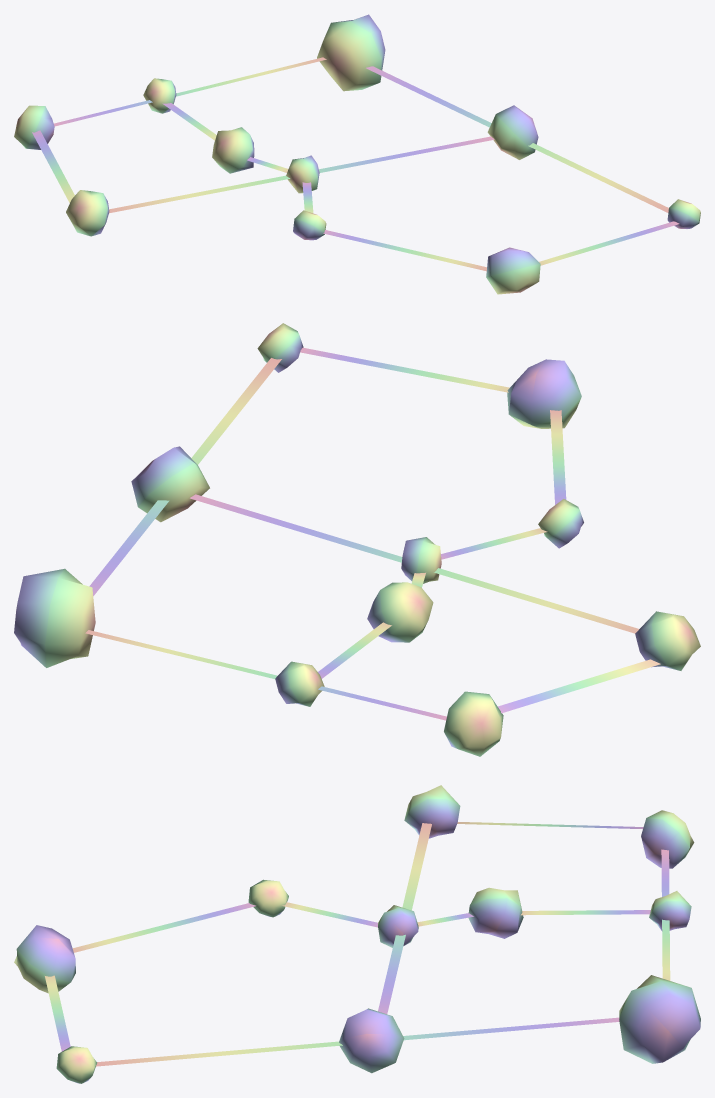
Rendered from ChomBoo.fbx.
The picture shows the model from 3 angles, top to bottom: view 1: azimuth 30°, elevation 25°; view 2: azimuth 150°, elevation 25°; view 3: azimuth 270°, elevation 25°; orthographic projection. The views are drawn at different scales.
Parts seen in each view (by area): view 1: ChomBoo; view 2: ChomBoo; view 3: ChomBoo.
Part boxes in pixels (<box>): ChomBoo: <box>14,14,700,294</box>; ChomBoo: <box>14,323,700,756</box>; ChomBoo: <box>14,785,700,1083</box>.
Bounding box in the file's own units: 3.44 × 3.69 × 0.467.
